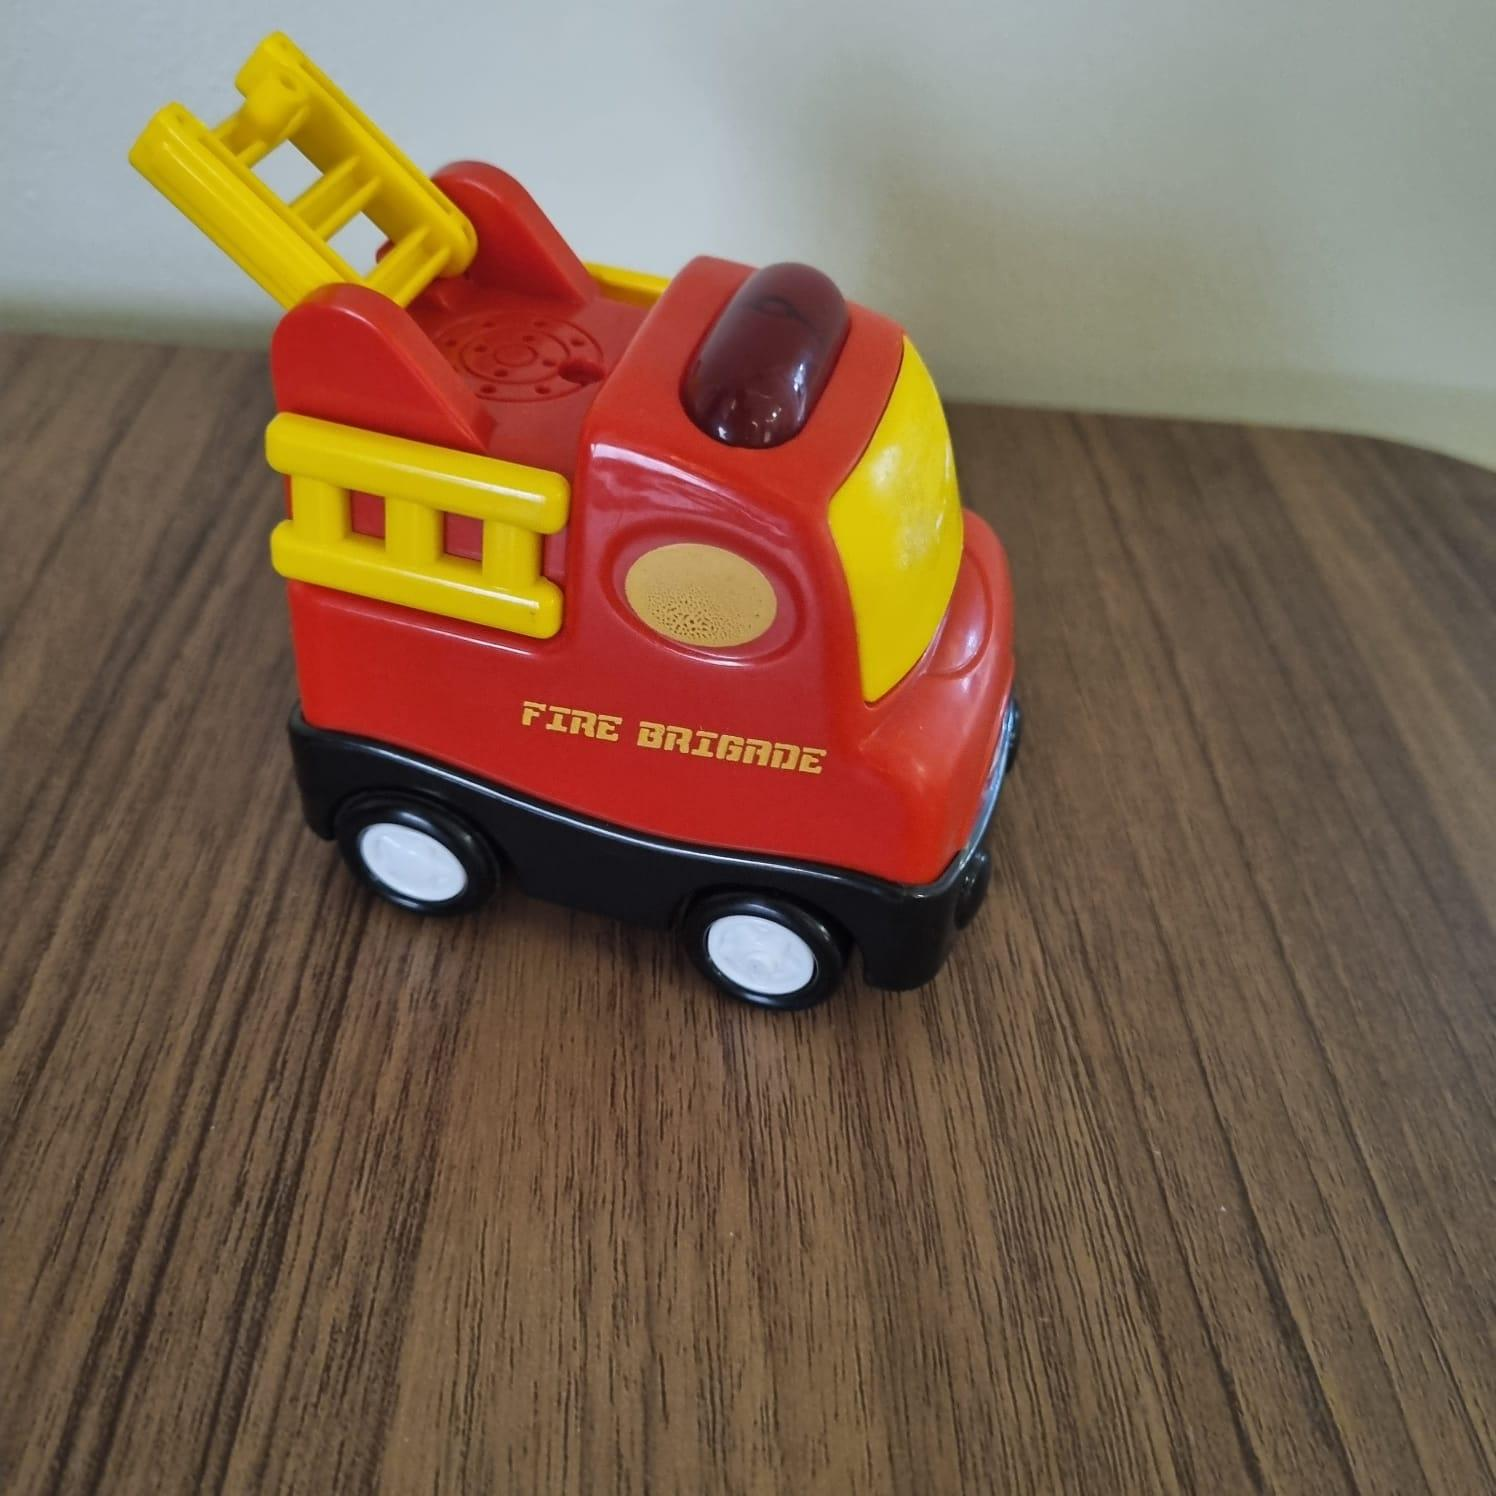firetruck_off: (110, 37, 1015, 1022)
